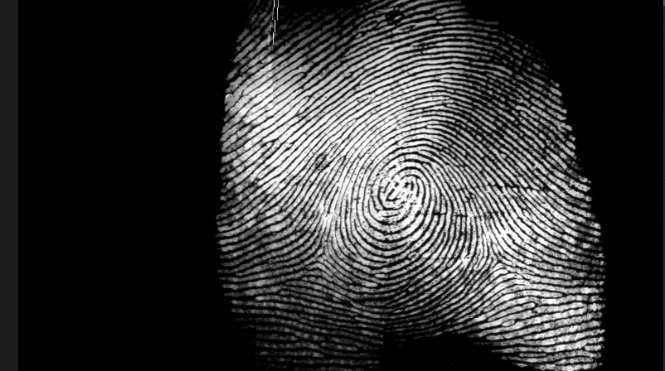deltas: (292, 233, 344, 287), (475, 236, 521, 277)
nucleo: (376, 176, 423, 212)
